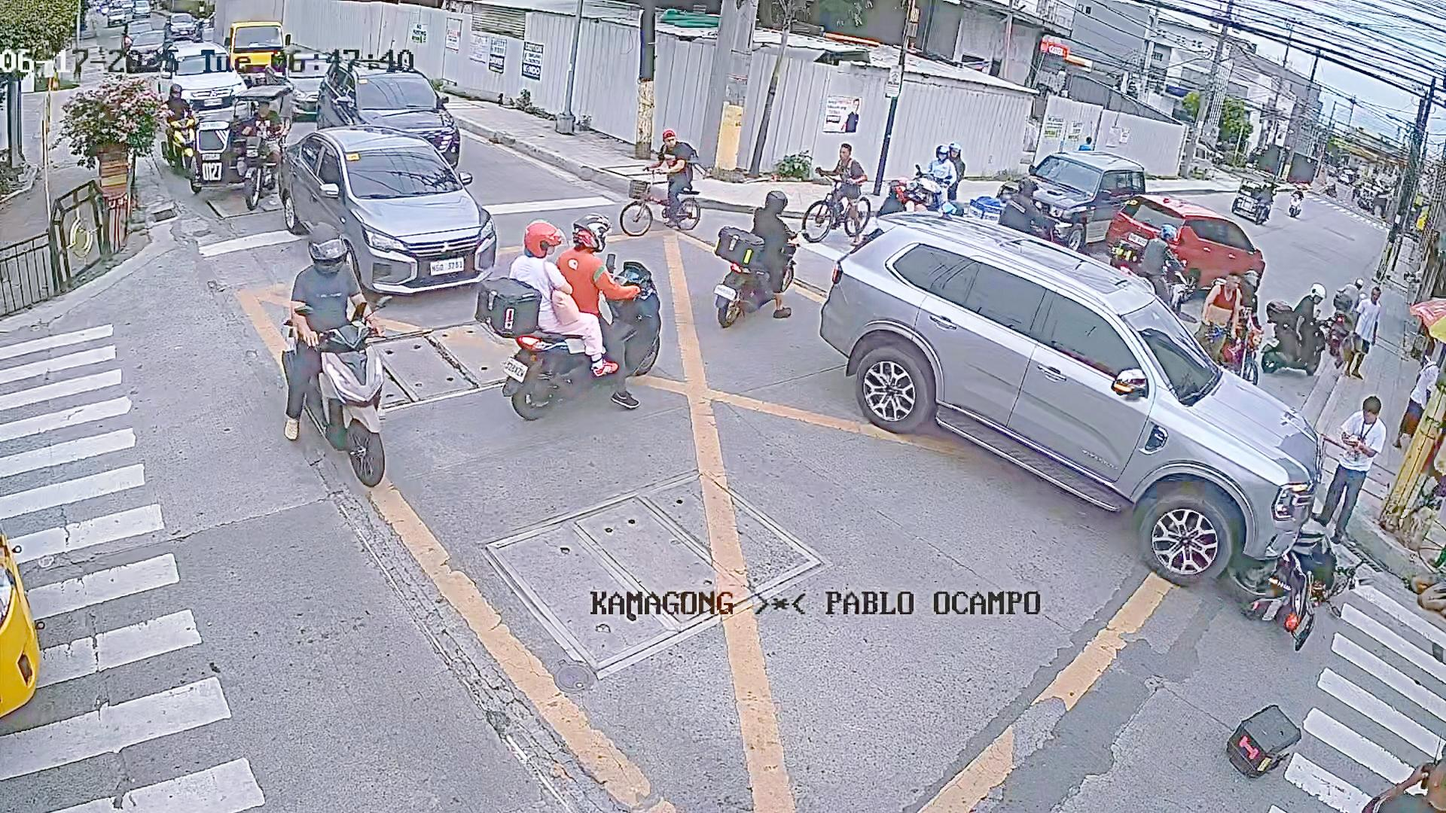Car: (844, 205, 1303, 603), (273, 125, 514, 295), (303, 53, 474, 163), (1110, 195, 1283, 288)
Minor Accident: (854, 210, 1354, 652)
Motor: (267, 258, 446, 536), (496, 257, 714, 422), (1209, 514, 1341, 636), (700, 198, 792, 345), (1255, 297, 1322, 386)
